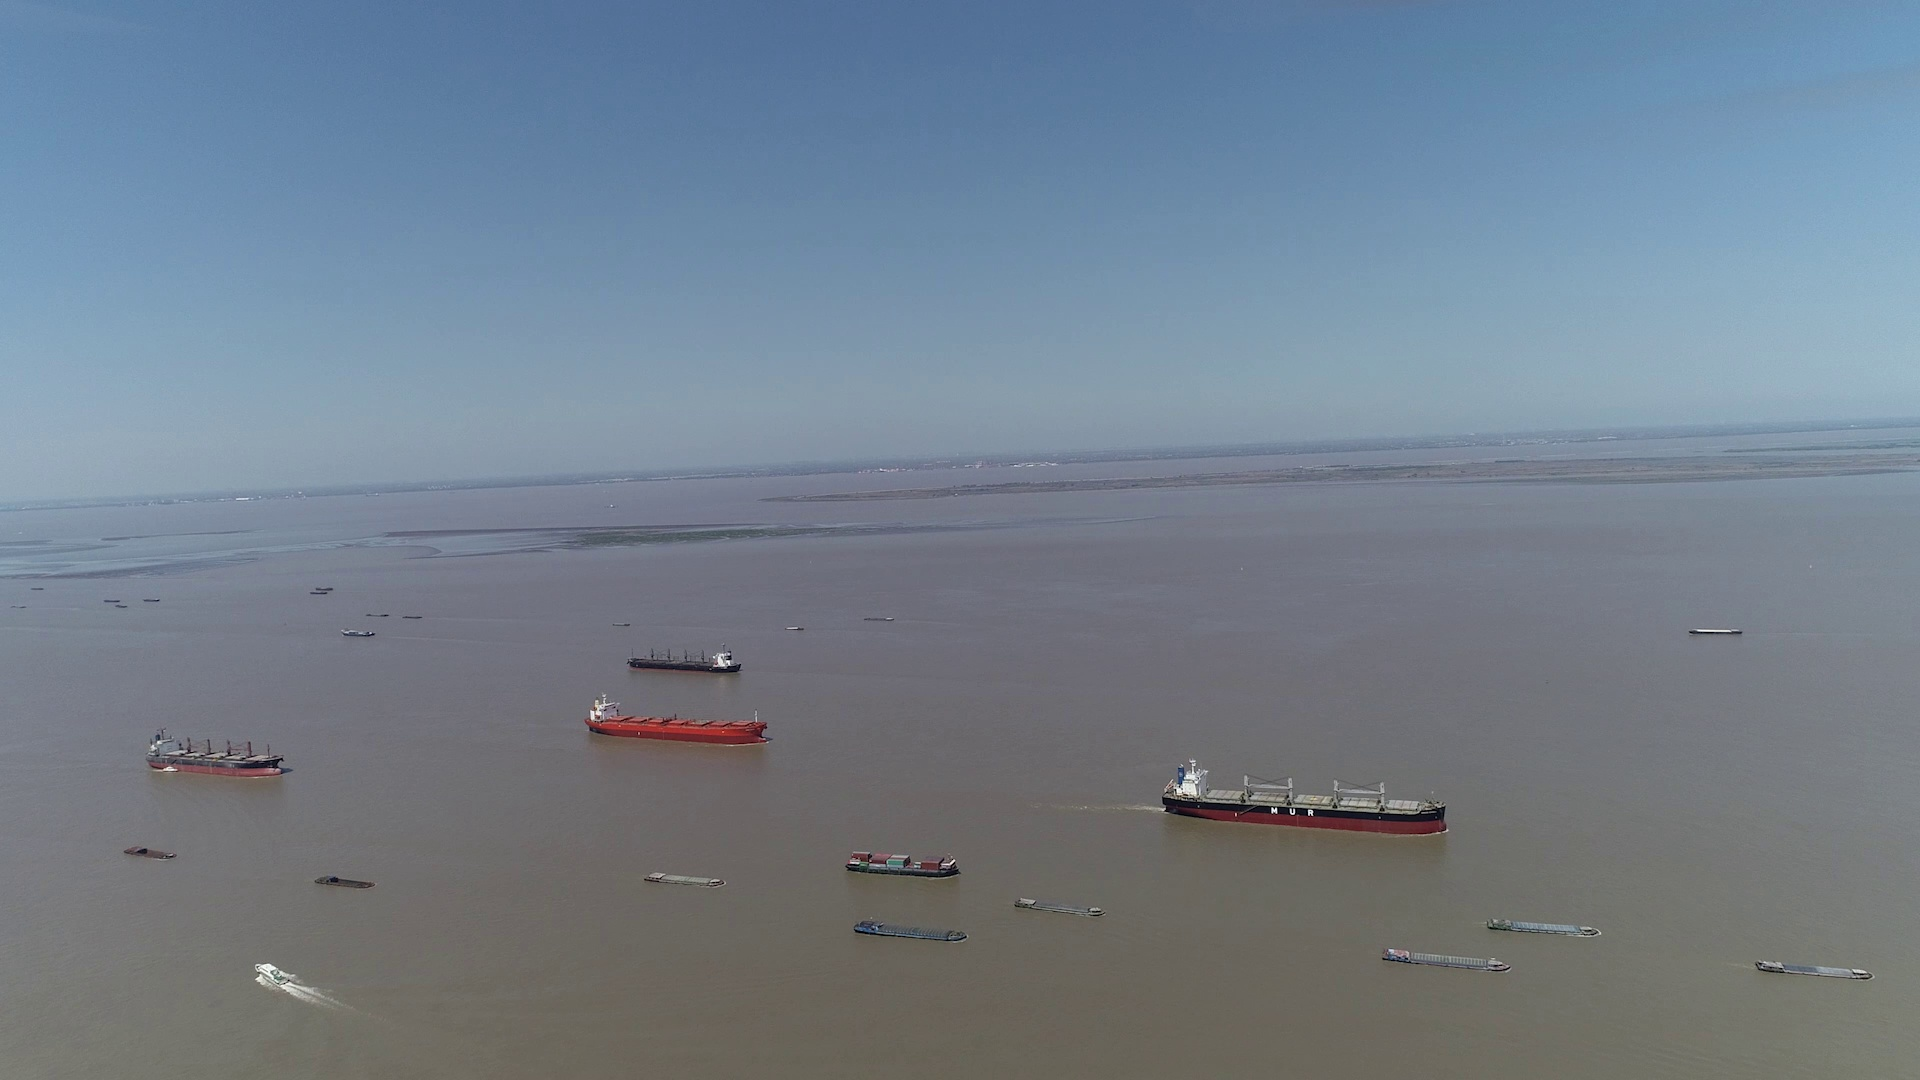ship: (1160, 760, 1448, 835), (584, 696, 767, 745), (150, 727, 286, 775), (625, 644, 742, 673), (1379, 948, 1513, 972), (845, 849, 959, 876), (1753, 957, 1873, 978), (852, 919, 967, 940), (1486, 916, 1597, 936), (1015, 895, 1102, 916), (644, 872, 727, 887), (315, 876, 375, 889), (255, 963, 287, 986), (123, 847, 177, 858), (1691, 626, 1741, 636), (340, 628, 376, 636)
